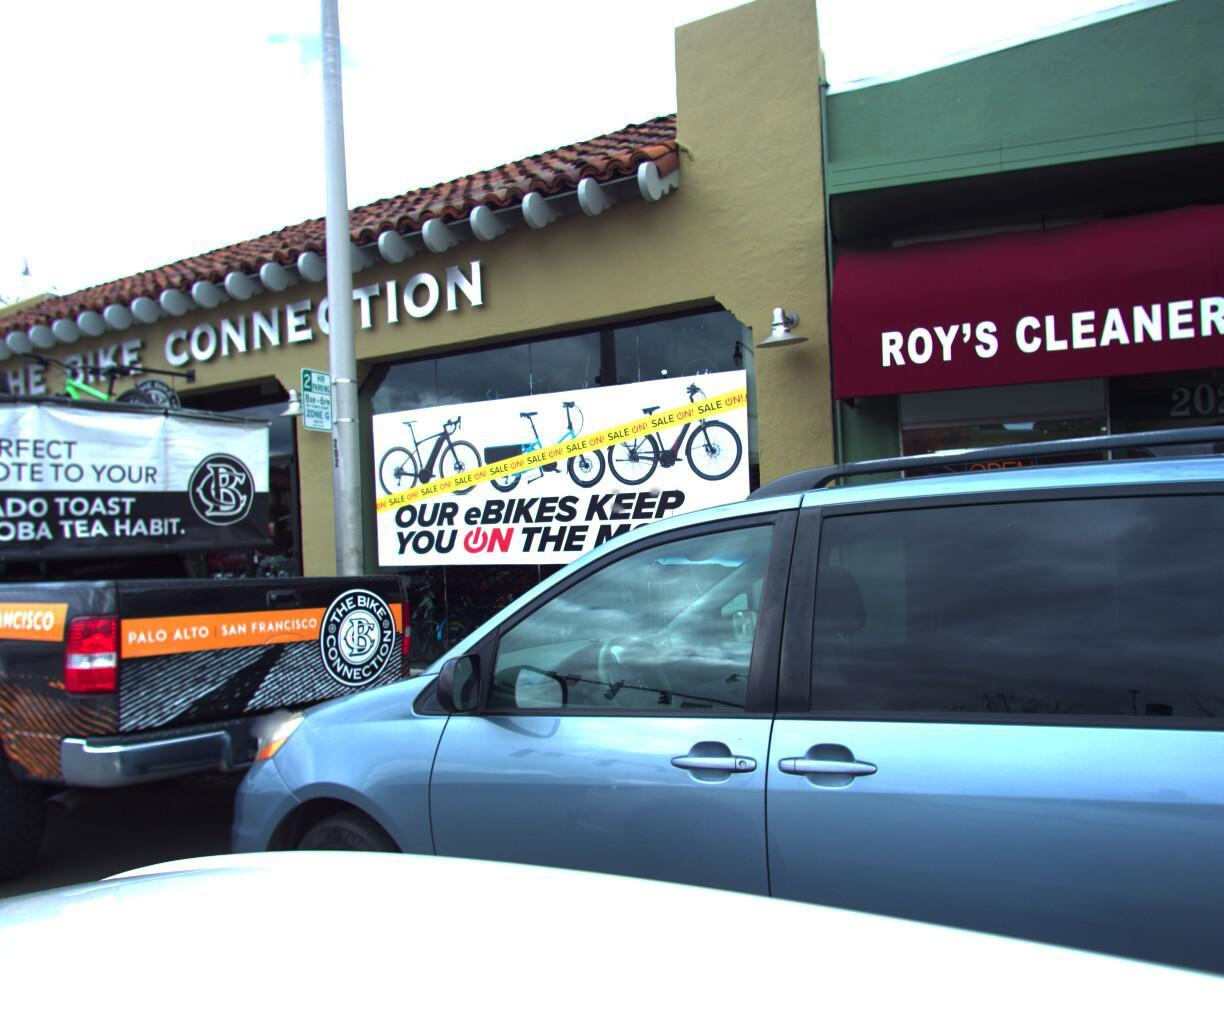car: (105, 170, 1224, 1024), (0, 170, 515, 972)
